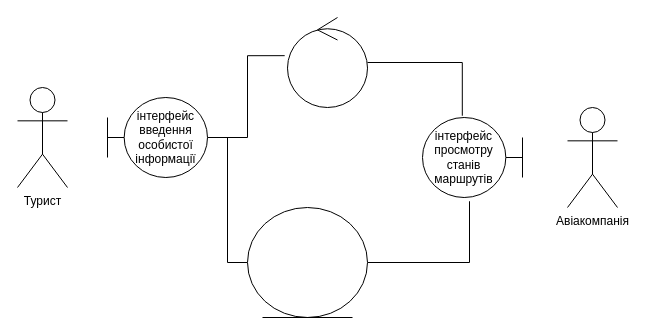
This 646x335 diagram has some shape labels left out. The shapes that lost their labels are listed below. From the top down, each one's centre as x and y in pixels, then its label:
At (327,62): "звірка з Держреєстром".
At (307,262): "додавання особистої інформації до білету(звернення до бази даних)".
